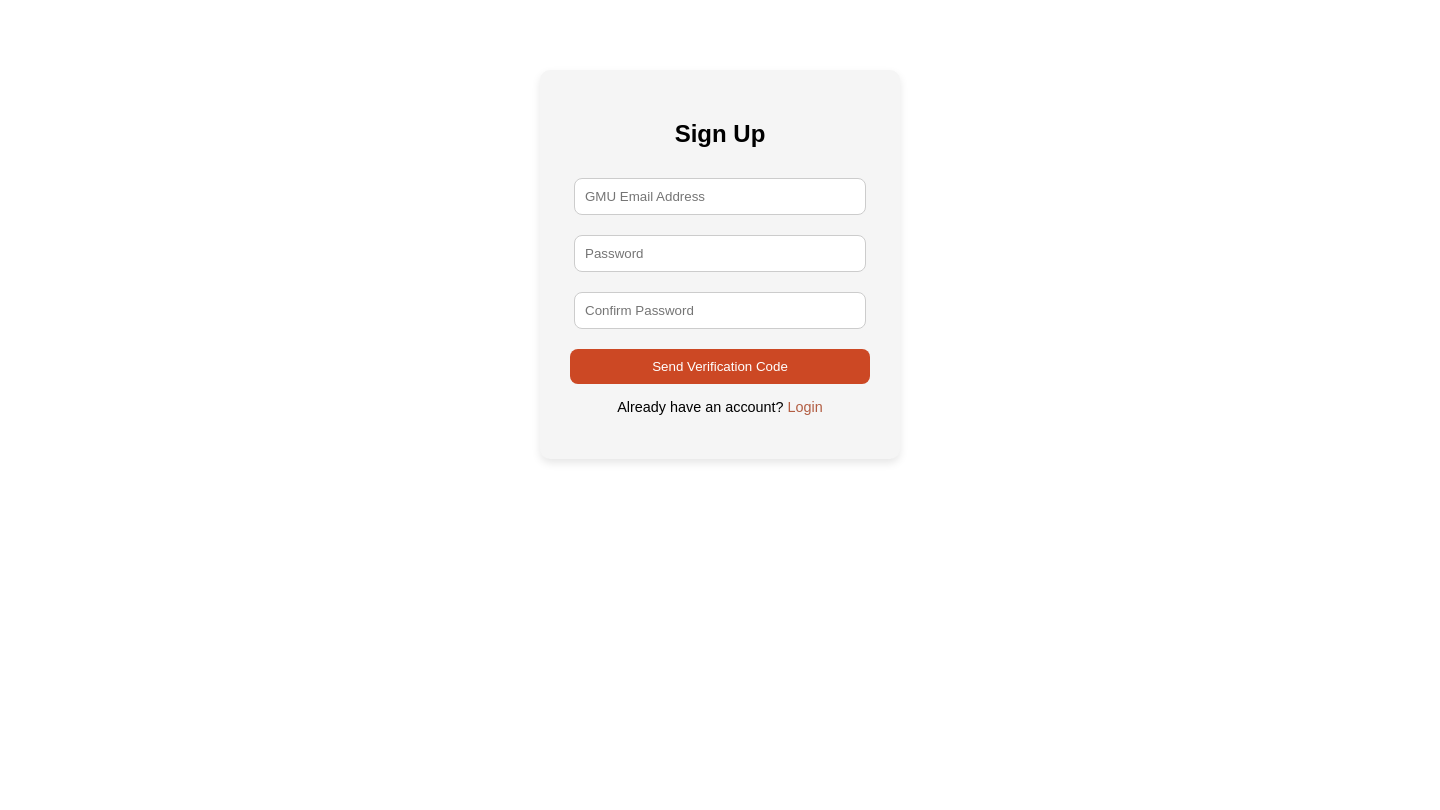
Scenario: SignUpForm Component › handles verification code submission successfully
In the field with placeholder "GMU Email Address": x=720, y=196 [574,178,866,215], type "user@gmu.edu"
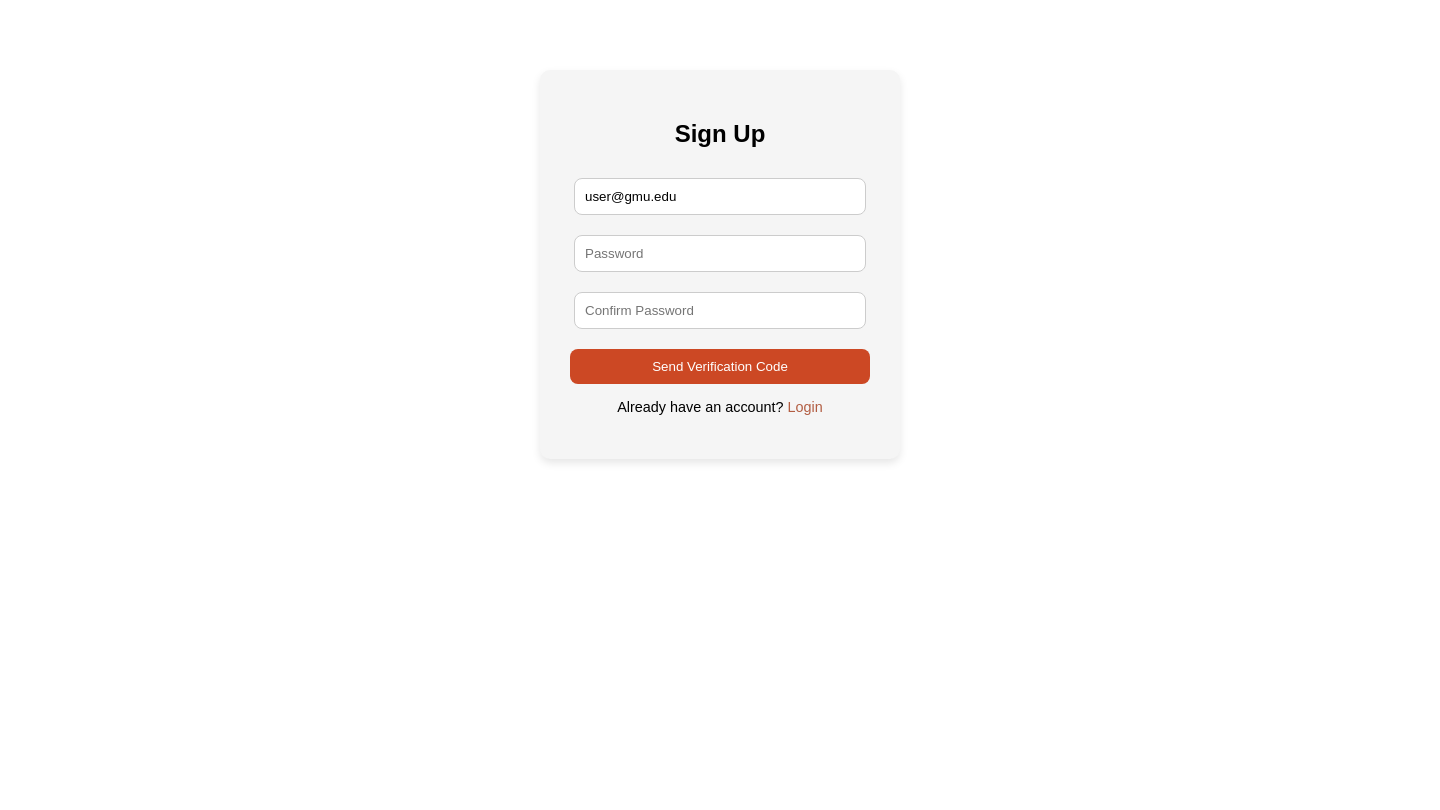
In the password field with placeholder "Password": x=720, y=253 [574,235,866,272], type "password123"
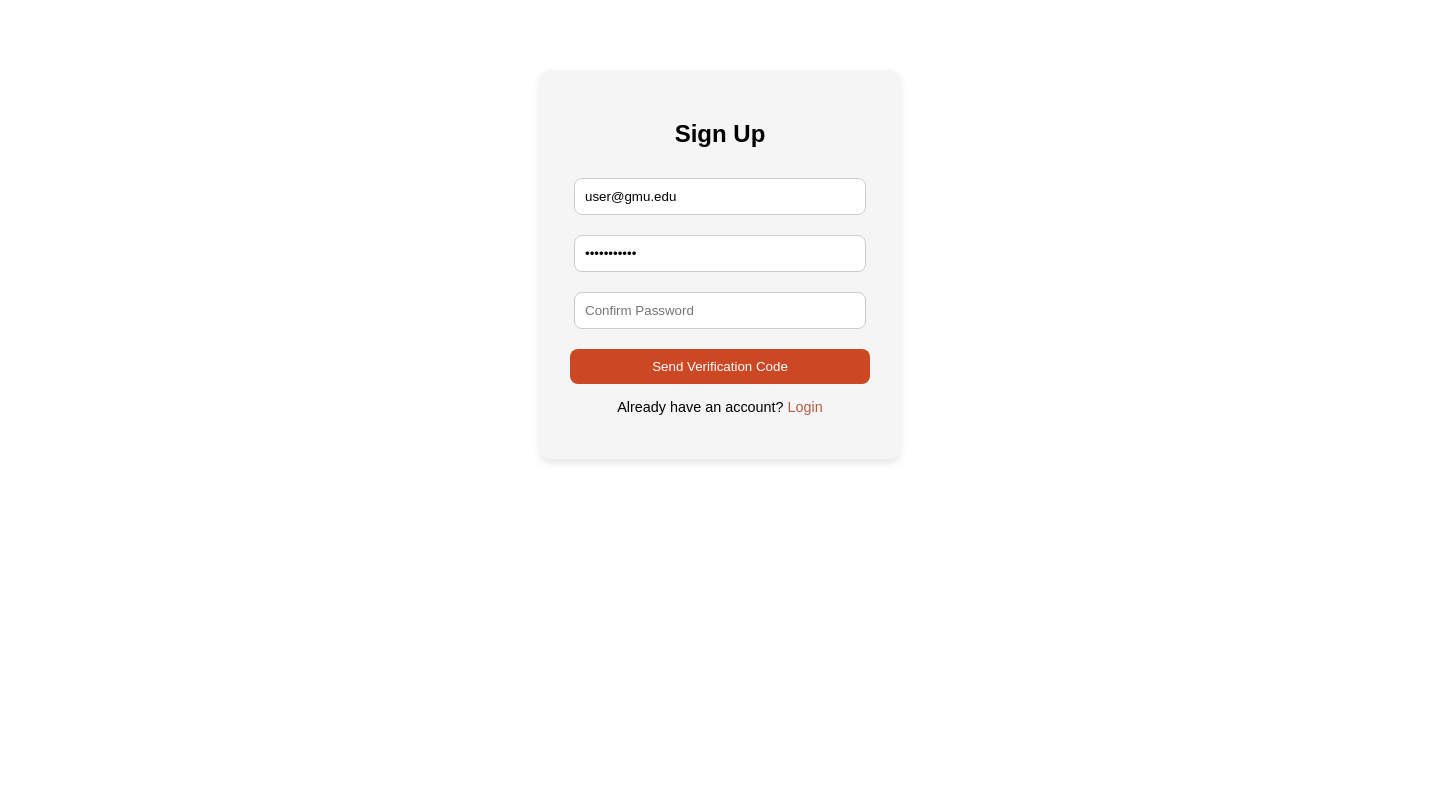
In the password field with placeholder "Confirm Password": x=720, y=310 [574,292,866,329], type "password123"
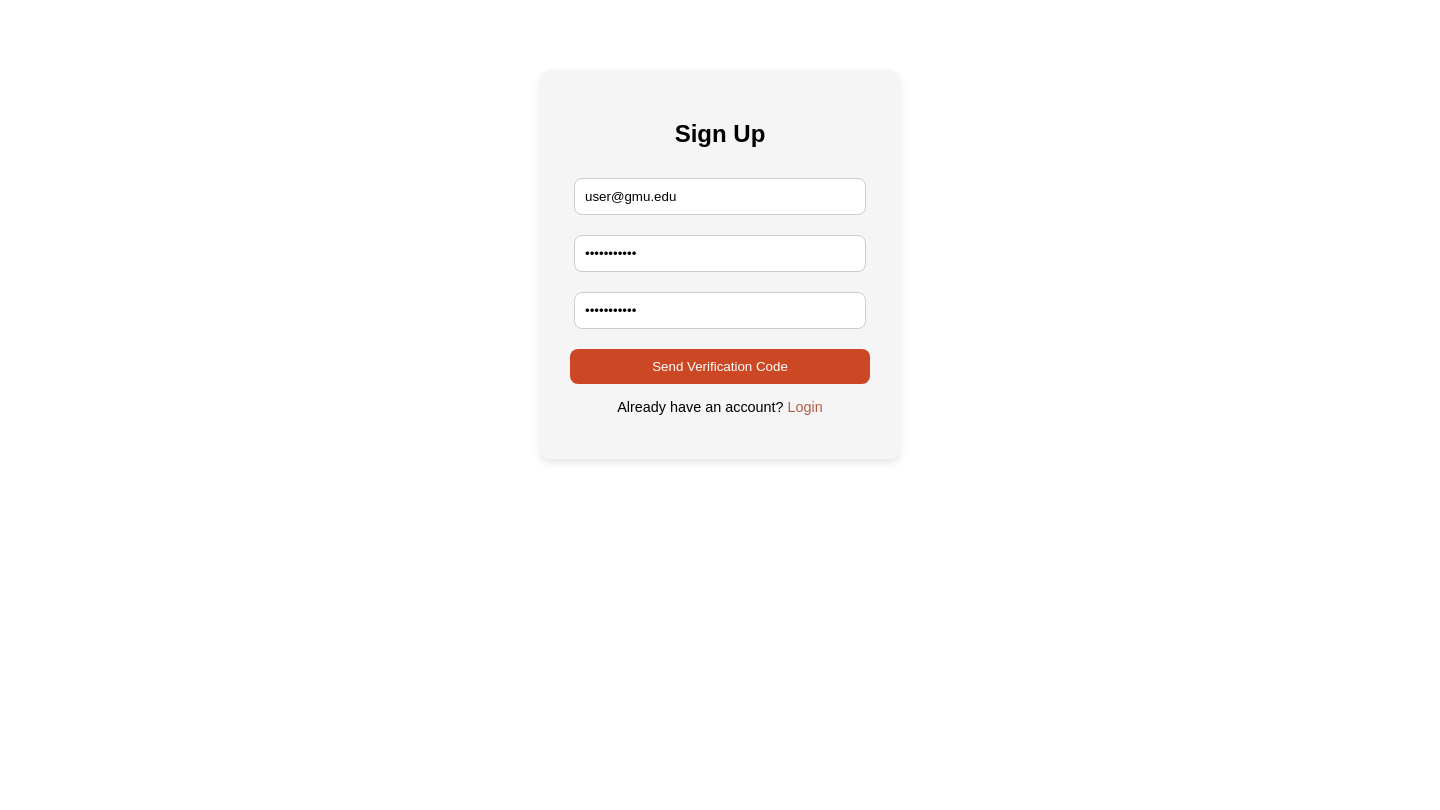
Click the button "Send Verification Code": x=720, y=366 [570,349,870,384]
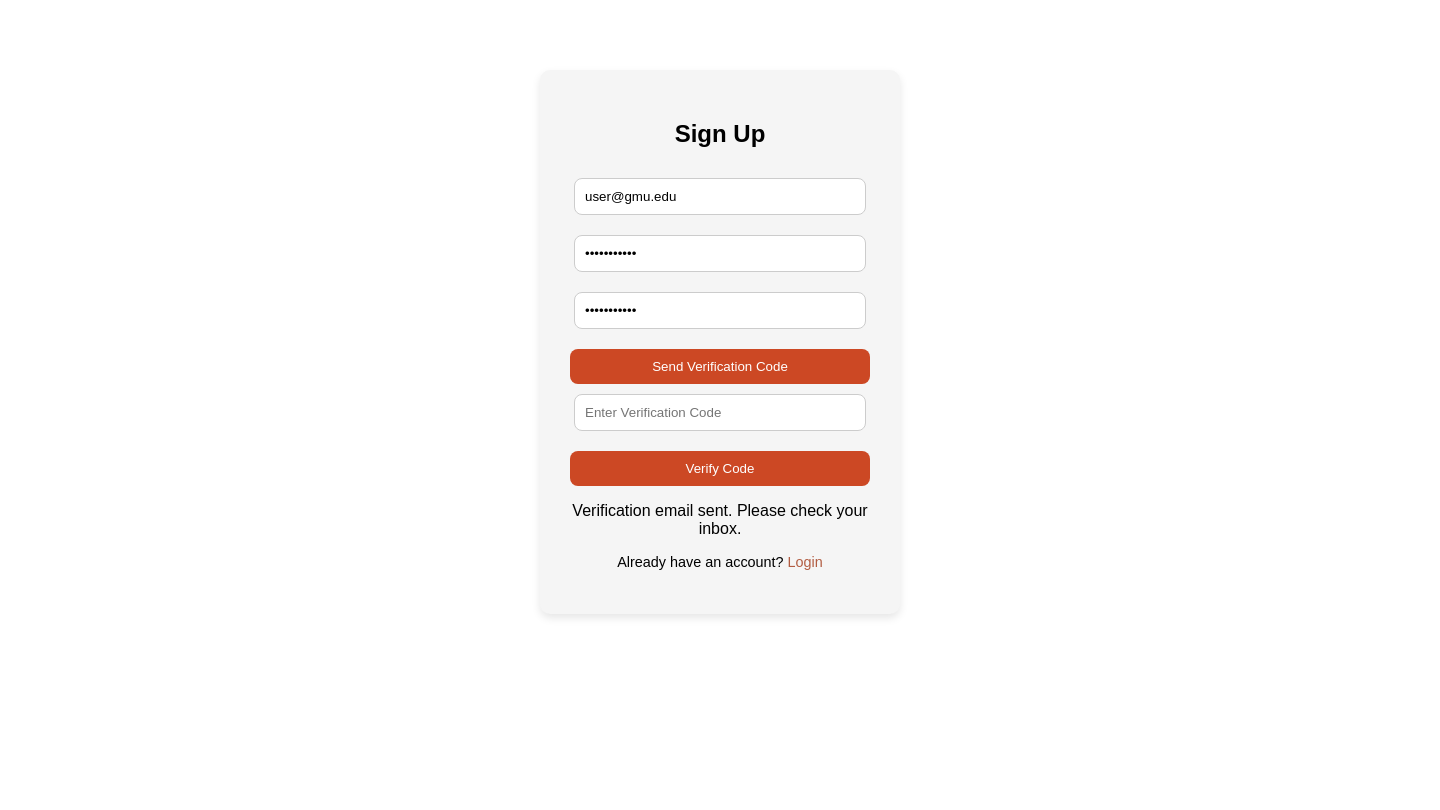
Expected: the text "Verification email sent. Please check your inbox." is shown, [570,502,870,538]
In the field with placeholder "Enter Verification Code": x=720, y=412 [574,394,866,431], type "123456"
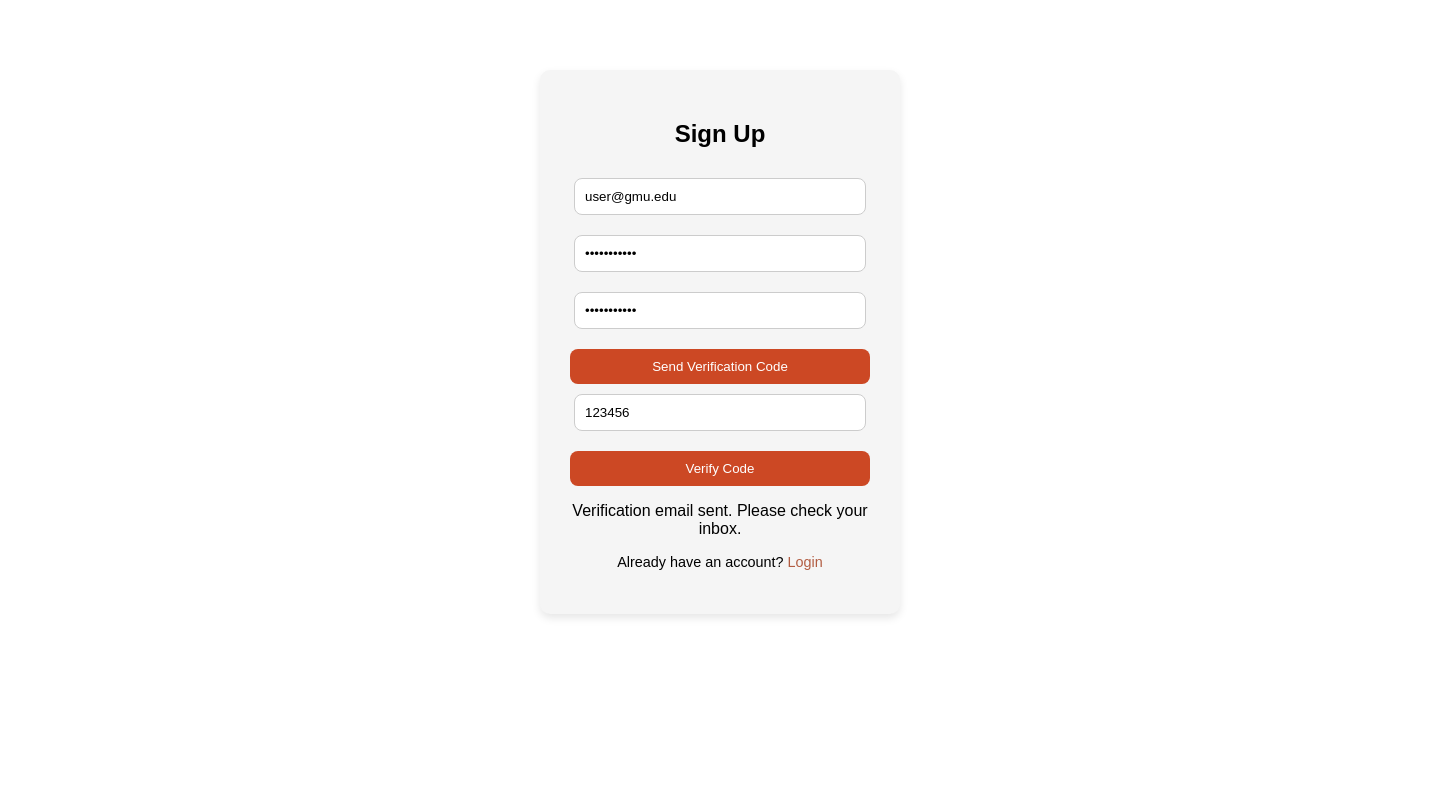
Click the button "Verify Code": x=720, y=468 [570,451,870,486]
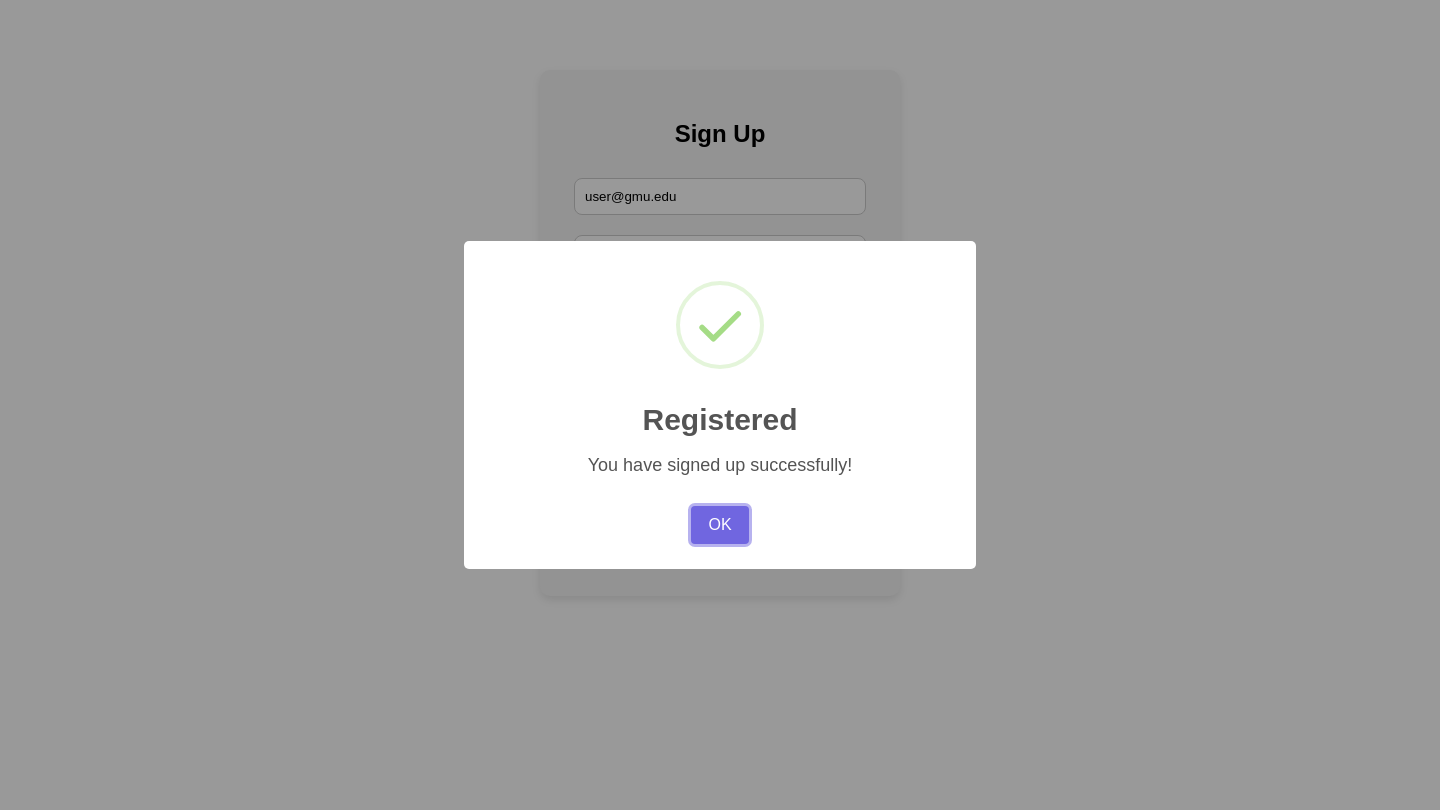
Expected: the text "Email verified successfully!" is shown, [624,502,816,519]
